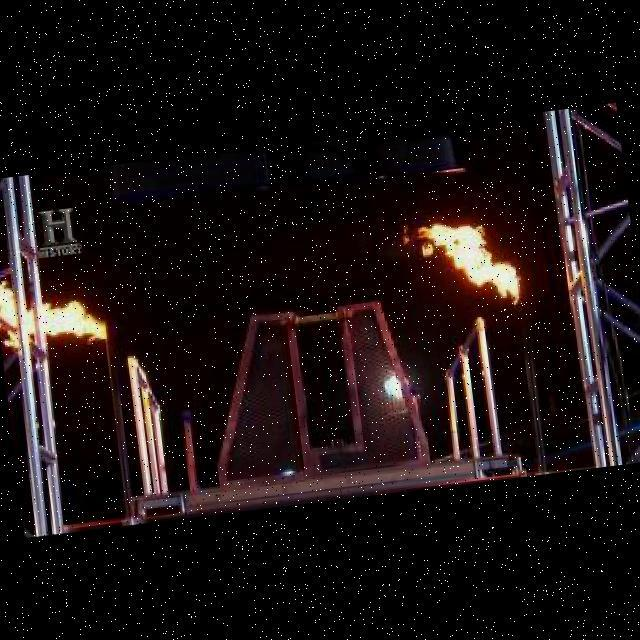Fire: (394, 204, 544, 324), (0, 271, 121, 361)
